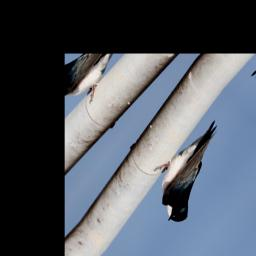Swallow: (138, 108, 243, 231)
